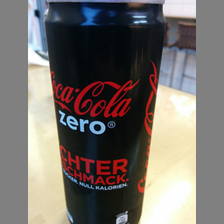soda: (44, 1, 168, 224)
